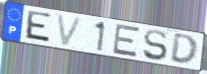1: (93, 21, 106, 53)
D: (169, 33, 200, 67)
E: (111, 23, 142, 59), (23, 9, 53, 45)
S: (142, 29, 169, 62)
V: (55, 13, 85, 48)
